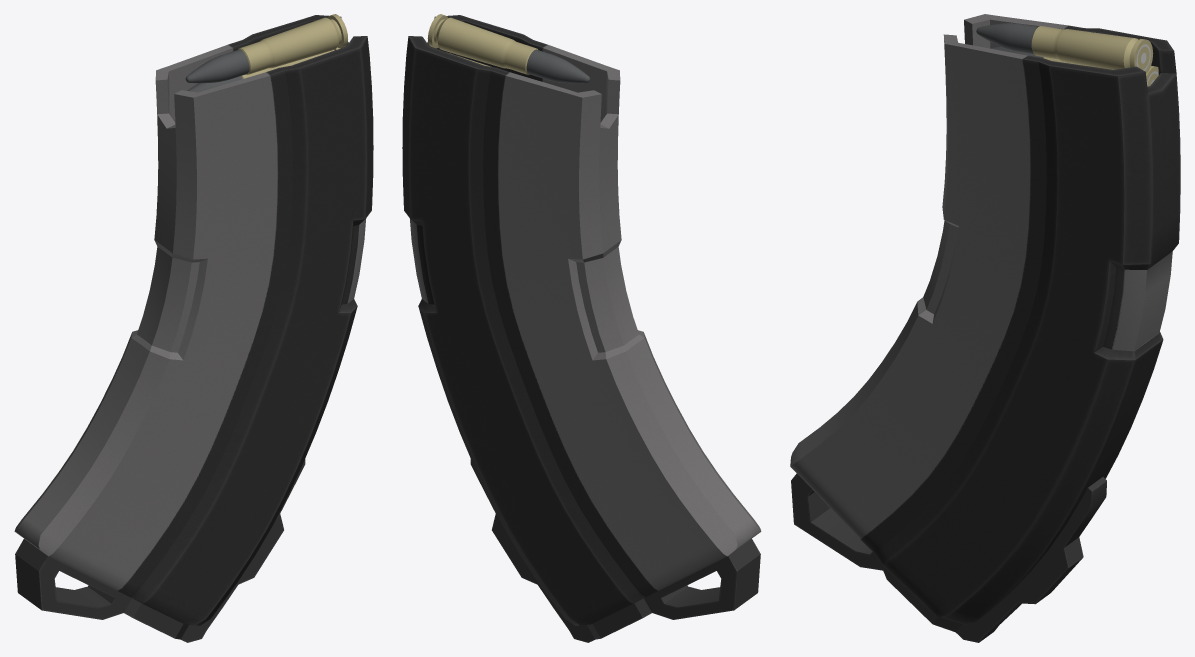
File: BullPup_Magazine.fbx
3 renders of one model, left to right at view 1: azimuth 30°, elevation 25°; view 2: azimuth 150°, elevation 25°; view 3: azimuth 330°, elevation 25°, orthographic. The views are drawn at different scales.
Visible parts, largest first — view 1: Cube.050, Cylinder.014; view 2: Cube.050, Cylinder.014; view 3: Cube.050, Cylinder.014.
Boxes of the visible parts, x1,y1,x2,y2 form: Cube.050: [14, 15, 373, 642]; Cylinder.014: [185, 14, 347, 92]; Cube.050: [402, 15, 761, 642]; Cylinder.014: [427, 14, 590, 83]; Cube.050: [790, 14, 1180, 642]; Cylinder.014: [976, 23, 1158, 86].
Size of the model in its own units: 6.76 by 27.65 by 46.29.
